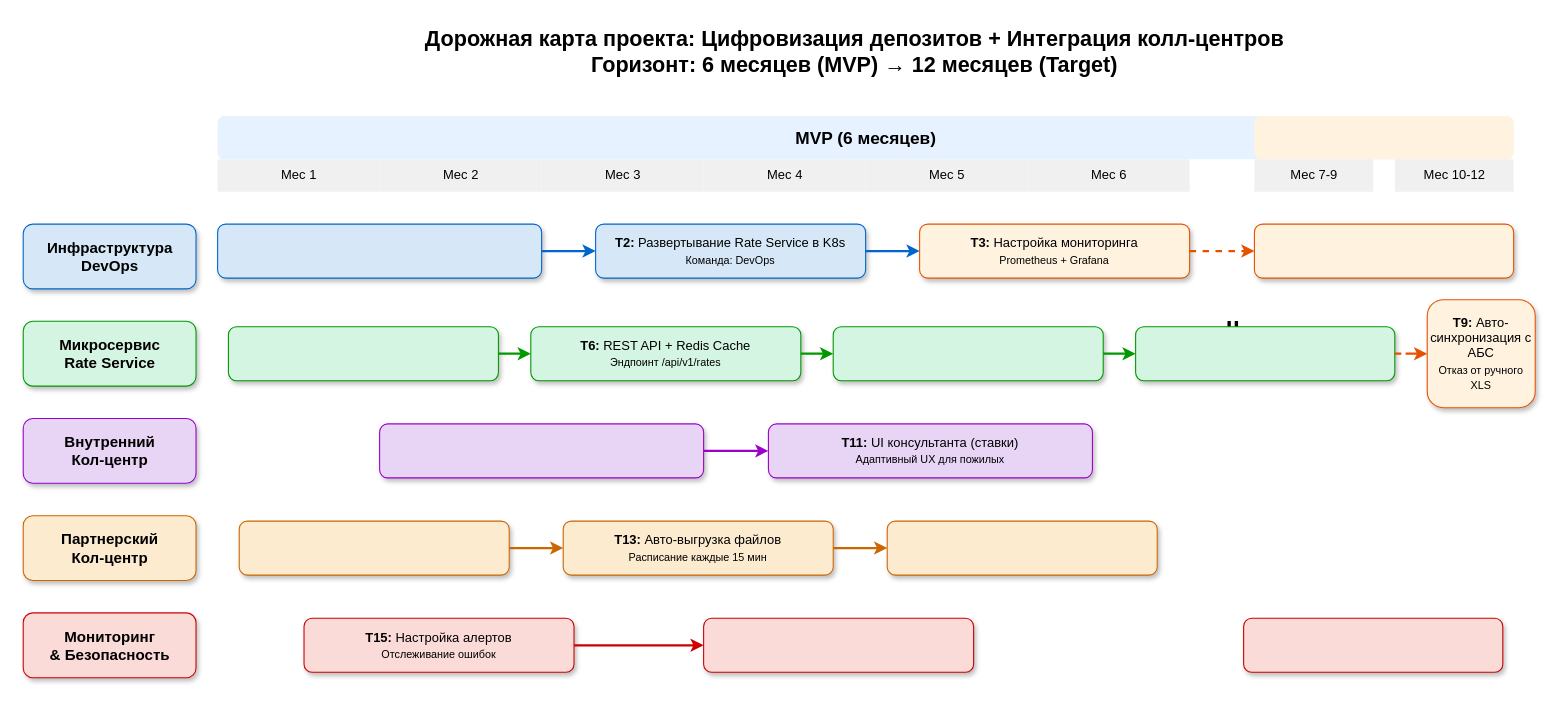
The diagram is 1561 pixels wide and 704 high, and some of its shapes have lost their labels. The shapes that lost their labels are listed below. From the top down, each one's centre as x and y in pixels, then its label:
(1383,137): Целевое решение (12 месяцев)
(380,252): T1: Настройка Kafka, Redis, SFTP Команда: Инфраструктура
(1384,252): T4: Горизонтальное масштабирование Автоскейлинг под нагрузку
(364,354): T5: Core Domain + Entity Модель ставок, репозитории
(969,354): T7: Воркер-Экспортер (SFTP) Генерация XLS
(1265,354): T8: Интеграция с Kafka RateChangedEvent
(542,451): T10: Адаптация CRM (REST клиент) Замена ручных таблиц
(375,549): T12: Настройка SFTP доступа DMZ + ключи шифрования
(1023,549): T14: Тестирование с партнером Приемочные испытания
(839,646): T16: Дашборды Grafana Визуализация метрик
(1373,646): T17: Аудит безопасности Шифрование, доступы
